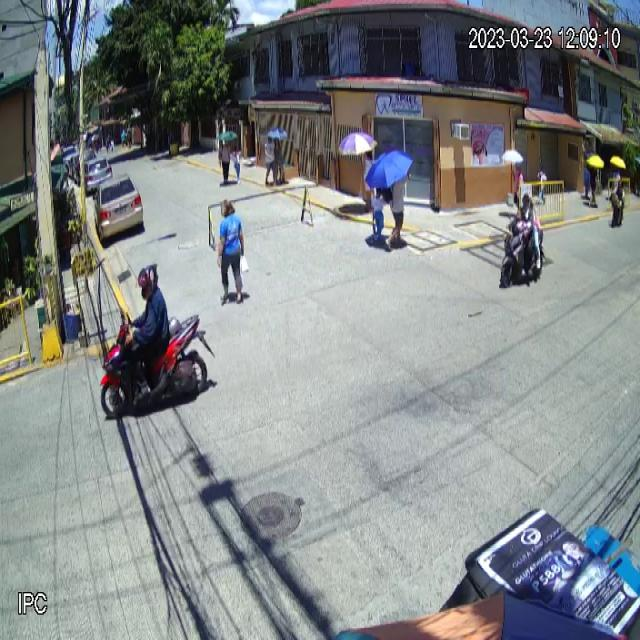Car: (94, 172, 144, 242)
Motorcycle: (100, 310, 215, 419)
